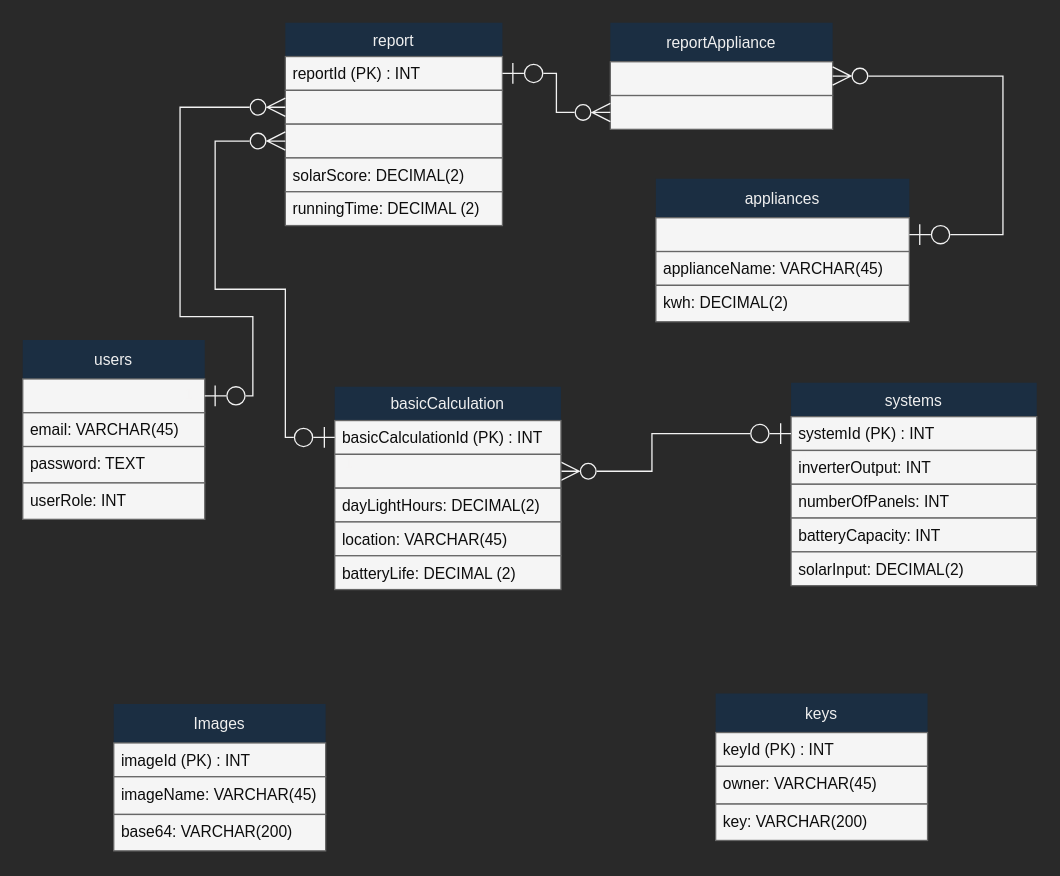
Some shapes in this 1060 by 876 pixel diagram are drawn without their labels. Here are the shapes that lost their labels. From the top down, the centre of each, then its label:
At [721,78]: "applianceId (CK, FK) : INT".
At [393,106]: "userId (FK) : INT".
At [721,111]: "reportId (CK, FK) : INT".
At [393,140]: "basicCalculationId (FK) : INT".
At [782,234]: "applianceId (PK) : INT".
At [113,395]: "userId (PK) : INT".
At [447,470]: "systemId (FK): INT".
